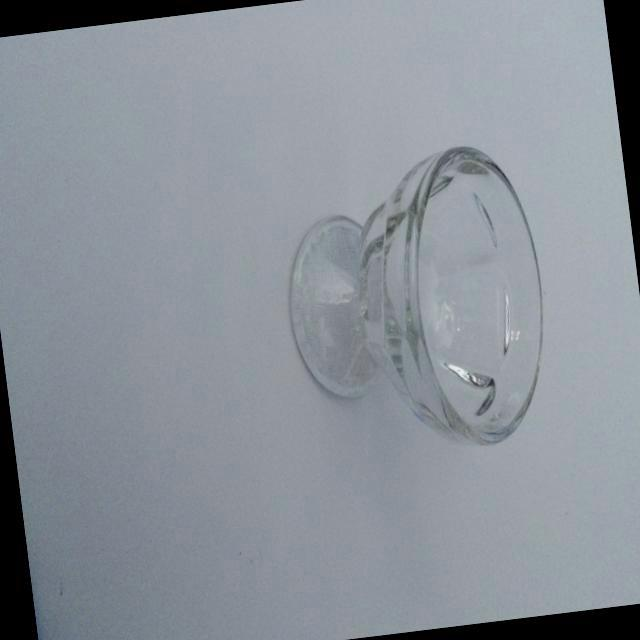glass: (254, 130, 566, 480)
